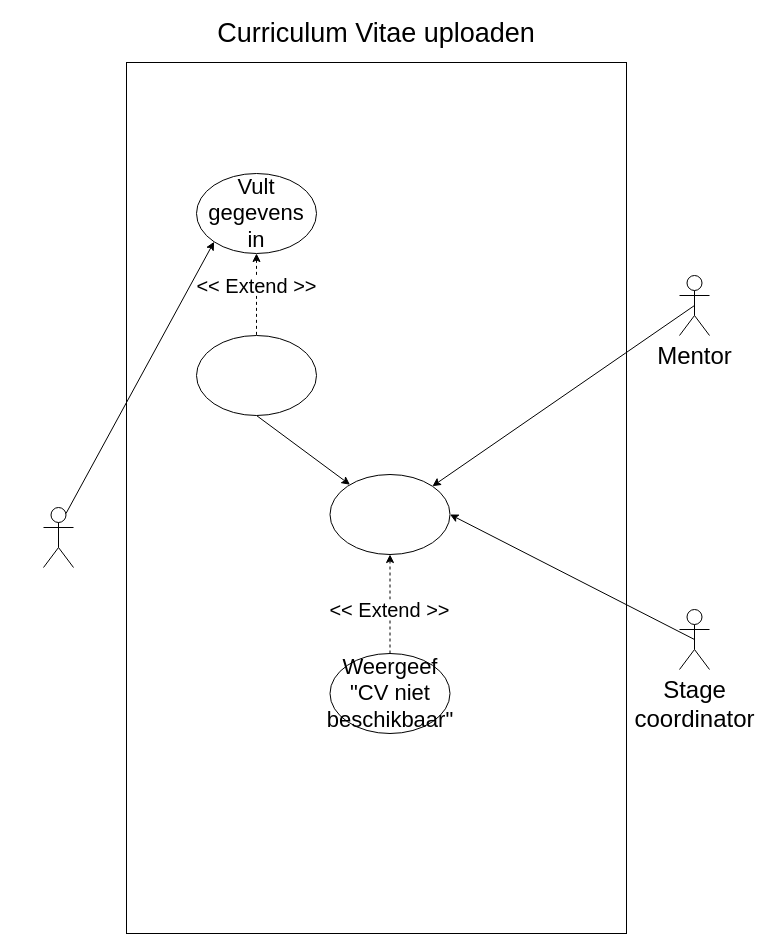
Some shapes in this 772 by 951 pixel diagram are drawn without their labels. The shapes that lost their labels are listed below. From the top down, each one's box as (x1, y1, x2, y2) in pixels, then its label:
(196, 334, 316, 416): Genereerd CV
(329, 474, 450, 554): kan CV zien
(42, 506, 74, 568): Student
